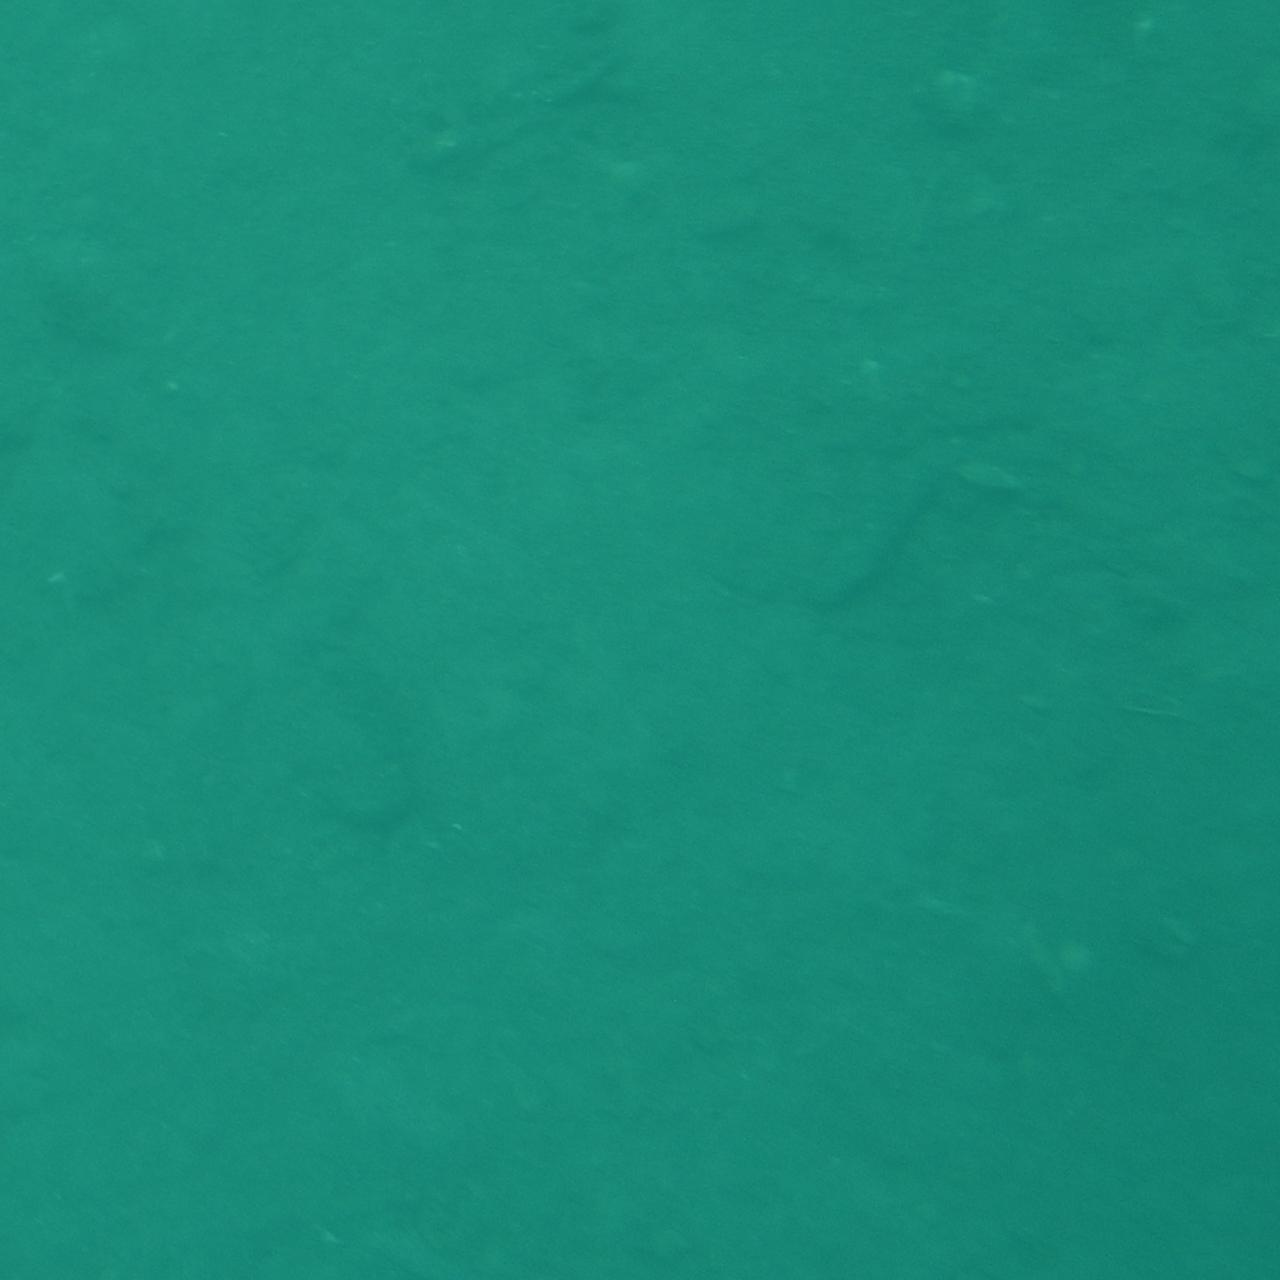Holothuria tubulosa: (765, 395, 1049, 649), (288, 653, 458, 863)
